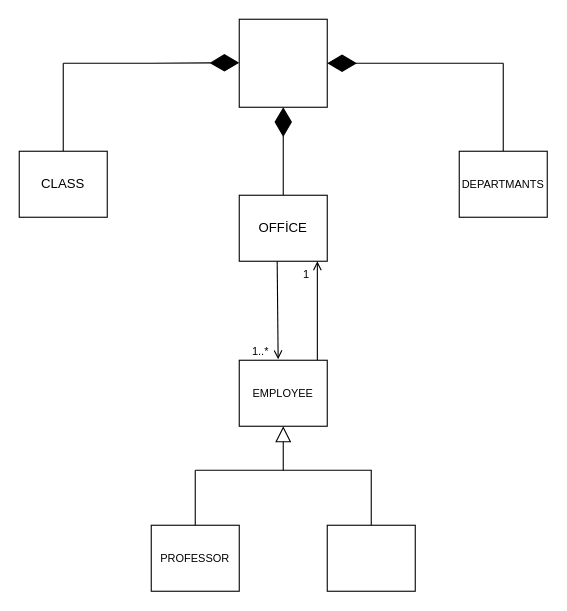
This 567x611 diagram has some shape labels left out. The shapes that lost their labels are listed below. From the top down, each one's centre as x and y in pixels, then its label:
point (282, 62): UNİVERCİTY
point (370, 557): OFFICER
